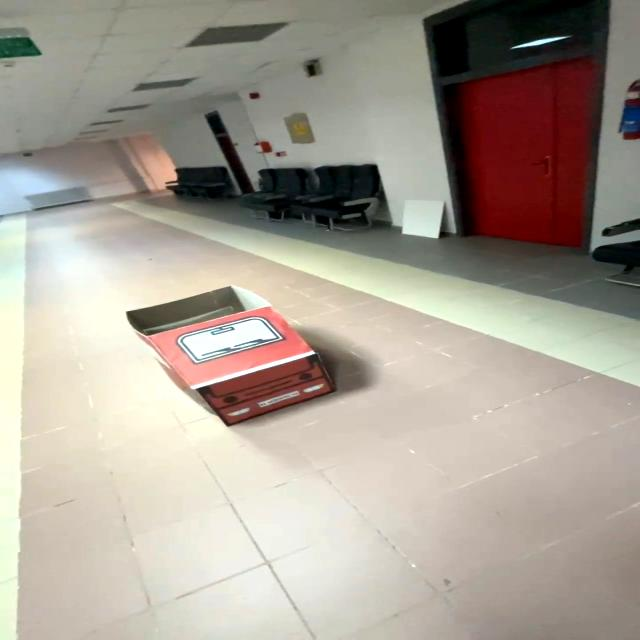red_car: (107, 273, 382, 445)
